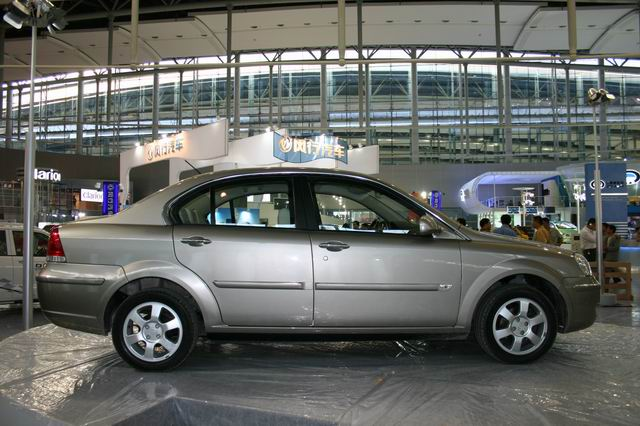car: (27, 146, 623, 391)
